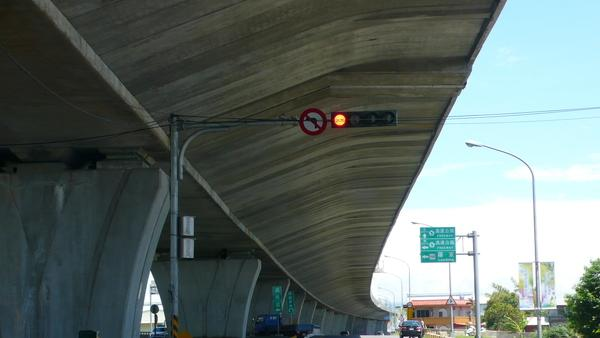no_left_turn: (298, 107, 326, 134)
red_traffic_light: (331, 109, 399, 131)
